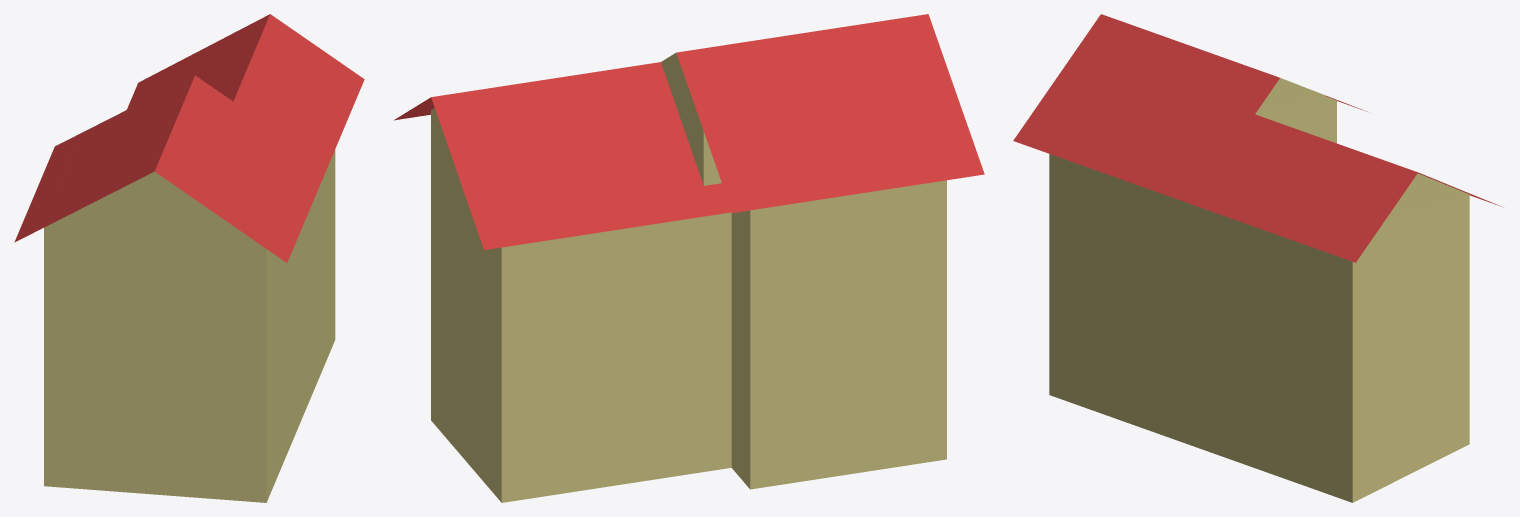
The picture shows the model from 3 angles, left to right: view 1: azimuth 30°, elevation 25°; view 2: azimuth 150°, elevation 25°; view 3: azimuth 270°, elevation 25°; orthographic projection. The views are drawn at different scales.
Size of the model in its own units: 14.62 by 14.32 by 10.84.
